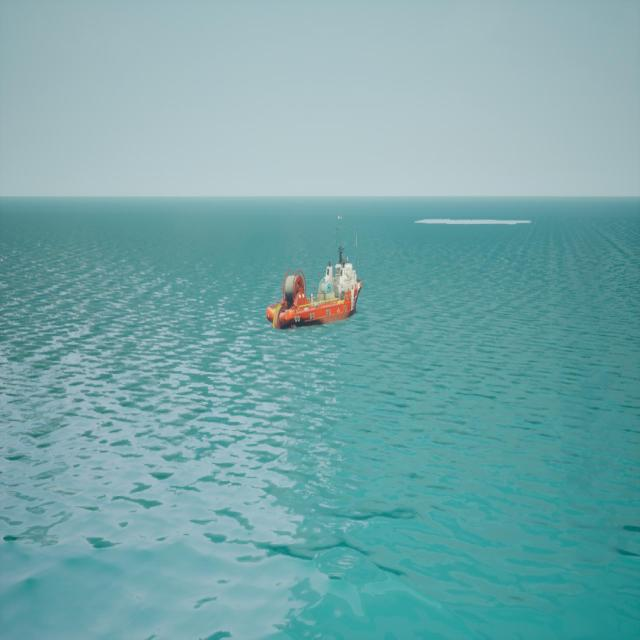tug boat: (269, 215, 365, 333)
